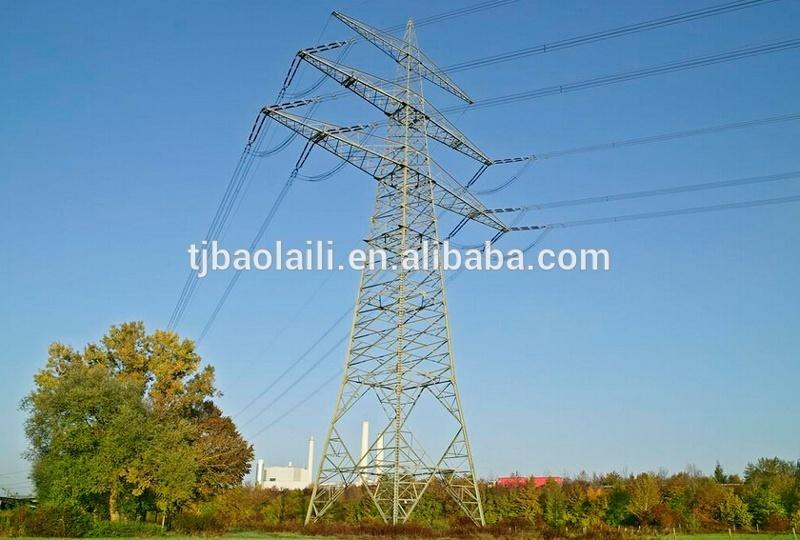power_tower: (278, 3, 534, 515)
